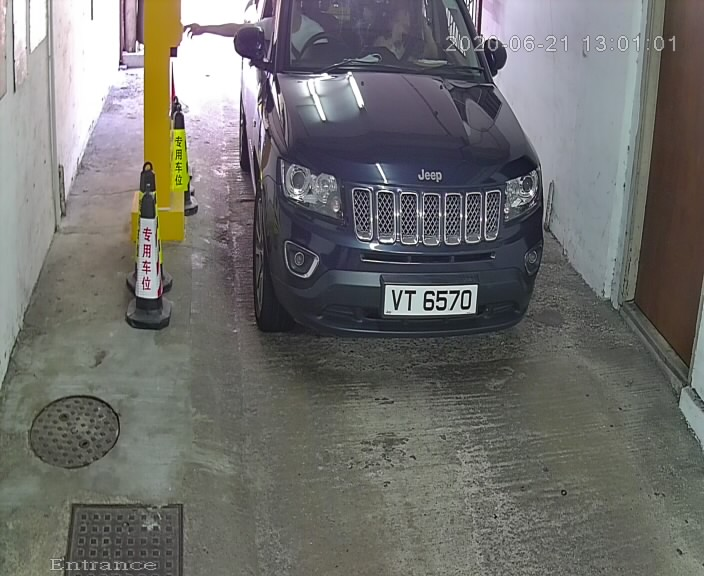privatecar: (218, 1, 575, 380)
